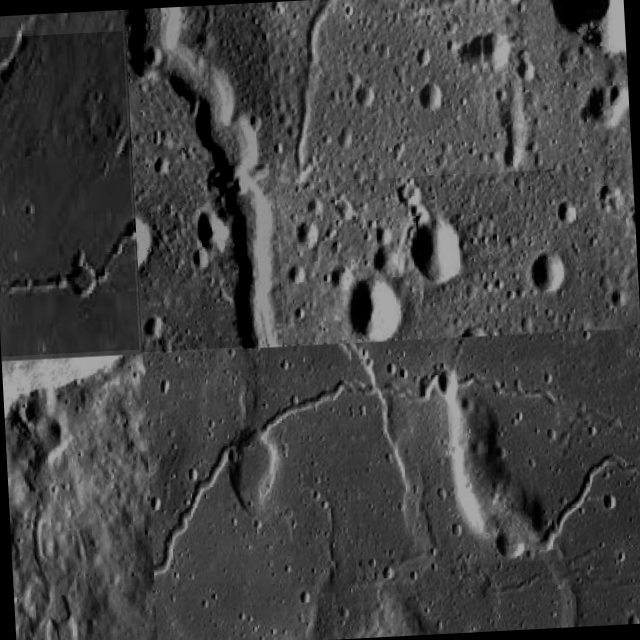crater: (143, 359, 567, 586), (123, 2, 284, 352), (285, 0, 563, 183), (0, 31, 139, 357), (532, 451, 640, 553), (464, 555, 640, 599), (14, 400, 52, 579)
